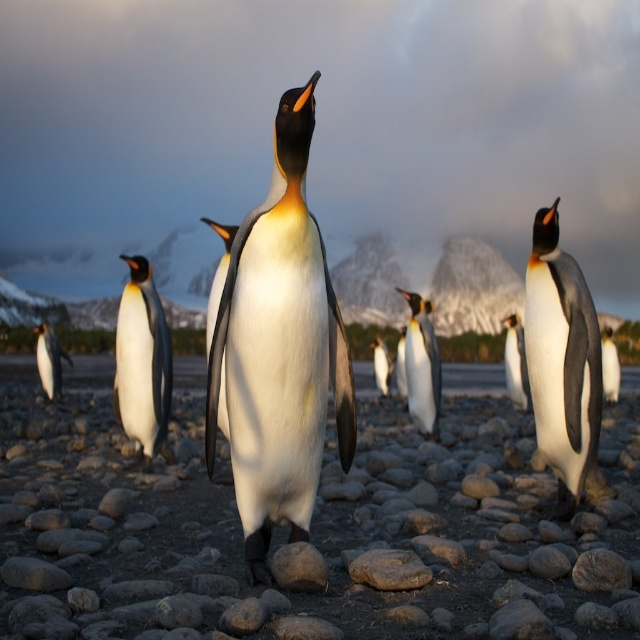Penguin: (192, 87, 360, 599), (522, 196, 609, 514), (111, 254, 174, 454), (198, 213, 245, 454), (396, 287, 440, 446), (31, 317, 76, 400), (502, 313, 531, 415), (598, 319, 625, 401), (371, 333, 391, 394), (397, 323, 407, 398)
